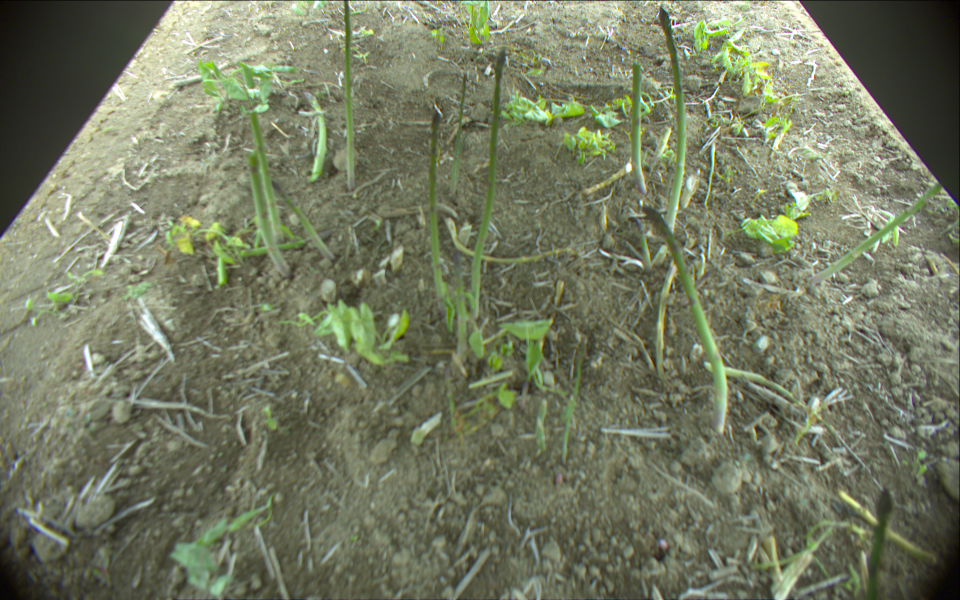aspa: (641, 206, 732, 440), (802, 180, 945, 286), (704, 359, 839, 440), (470, 44, 507, 317), (840, 492, 939, 563), (659, 6, 688, 235), (244, 150, 291, 277), (269, 180, 336, 259), (248, 104, 284, 248), (450, 221, 581, 259), (429, 103, 447, 321), (863, 487, 891, 600), (447, 73, 471, 200), (629, 62, 649, 191), (344, 1, 356, 190), (449, 247, 468, 361), (305, 90, 326, 182), (649, 127, 671, 168)
